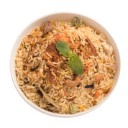briyani: (21, 29, 108, 105)
